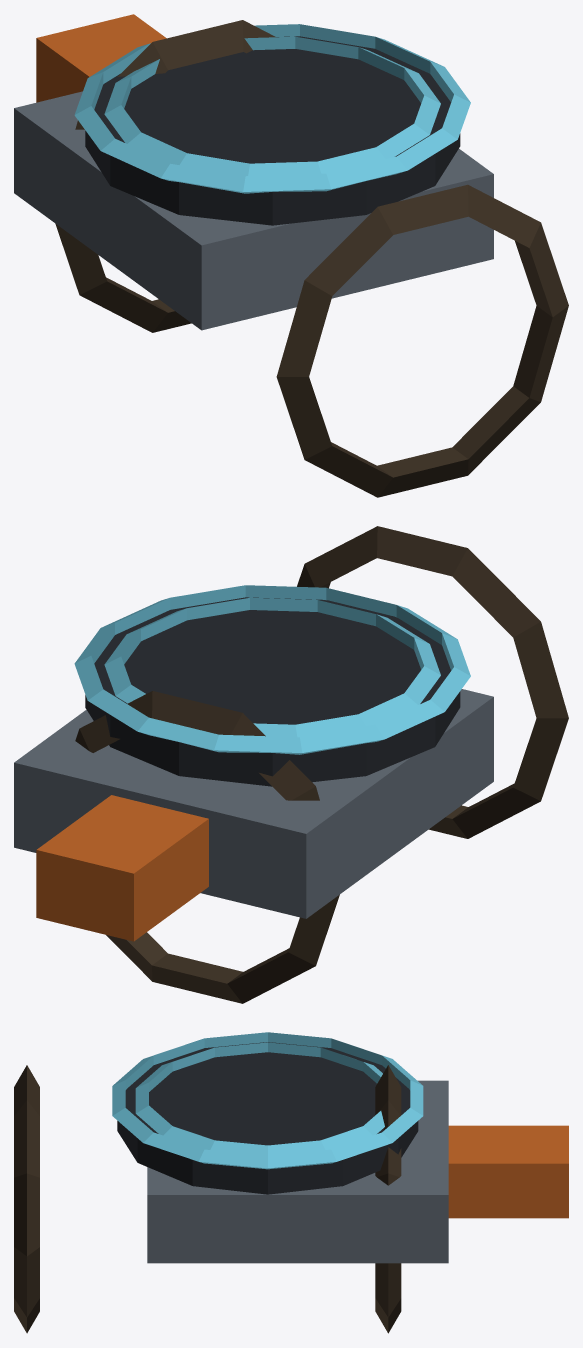
The model's file is medium-shield-generator.glb.
The picture shows the model from 3 angles, top to bottom: view 1: azimuth 30°, elevation 25°; view 2: azimuth 150°, elevation 25°; view 3: azimuth 270°, elevation 25°; orthographic projection. The views are drawn at different scales.
Parts seen in each view (by area): view 1: m; view 2: m; view 3: m.
Boxes of the visible parts, x1,y1,x2,y2 form: m: [14, 14, 568, 497]; m: [14, 526, 568, 1003]; m: [14, 1032, 568, 1333].
Bounding box in the file's own units: 0.0863 × 0.0697 × 0.15.
